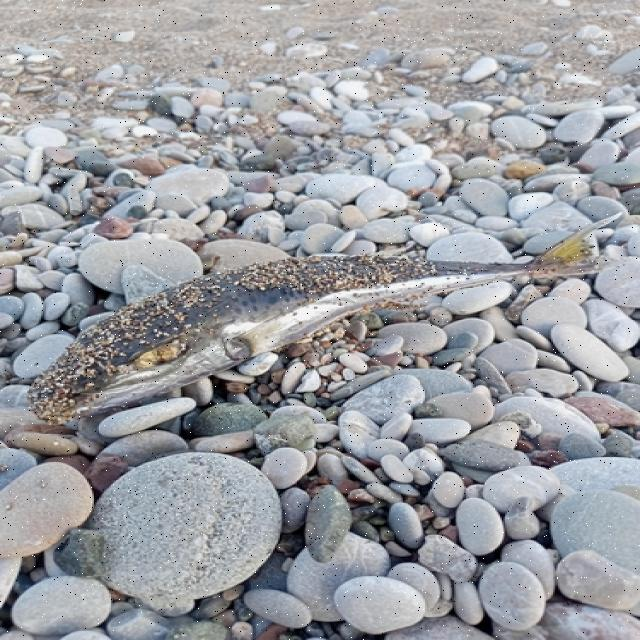Balik: (30, 214, 619, 423)
